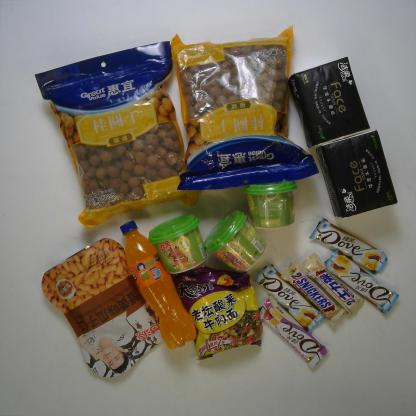Chocolate: (252, 295, 330, 372), (253, 261, 329, 334), (322, 247, 400, 316), (308, 216, 390, 274), (298, 252, 366, 318), (279, 261, 349, 324)
Dried Food: (30, 41, 206, 232), (168, 25, 325, 196)
Dried Fruit: (38, 235, 182, 384)
Drink: (118, 217, 199, 351)
Instant Drink: (202, 209, 270, 274), (146, 212, 209, 278), (243, 175, 300, 232)
Instant Noodles: (166, 261, 265, 362)
Tissue: (314, 126, 402, 223), (288, 52, 374, 149)
